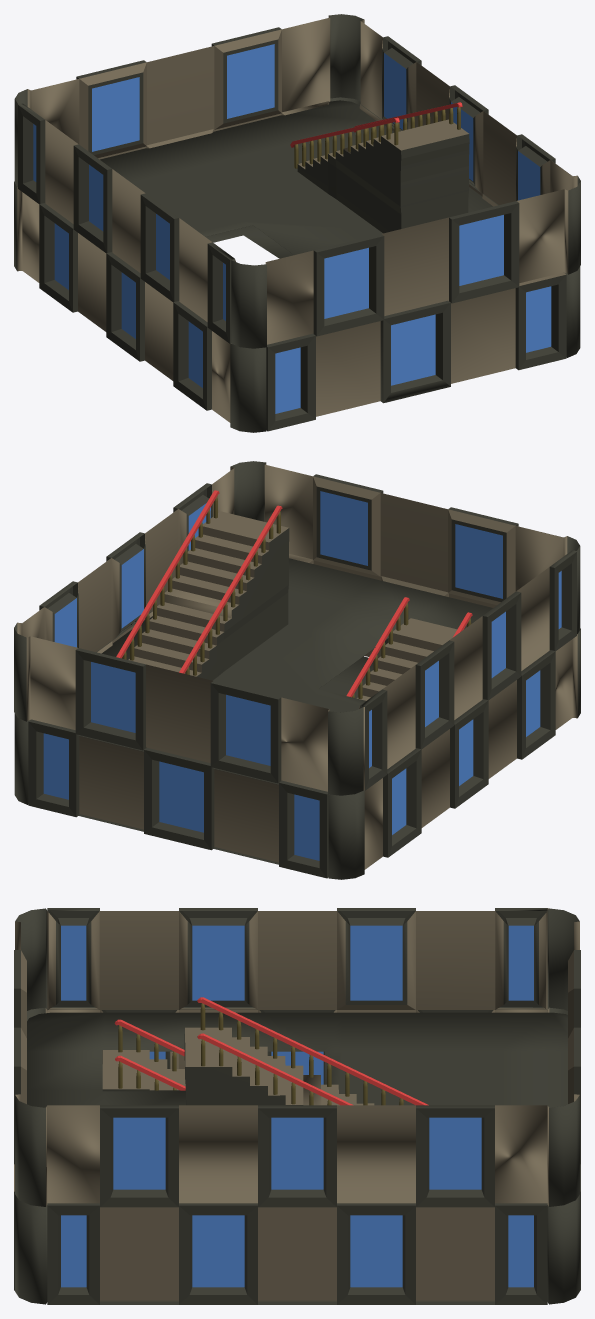
Rendered from Hotel Interior 5.fbx.
3 views of the same model, one above another, from view 1: azimuth 30°, elevation 25°; view 2: azimuth 150°, elevation 25°; view 3: azimuth 270°, elevation 25° (orthographic). The views are drawn at different scales.
Visible parts, largest first — view 1: hotel basado.015; view 2: hotel basado.015; view 3: hotel basado.015.
Part boxes in pixels (bbox=[...]): hotel basado.015: bbox=[14, 14, 580, 432]; hotel basado.015: bbox=[14, 461, 580, 879]; hotel basado.015: bbox=[14, 908, 580, 1304].
Bounding box in the file's own units: 1864 × 1136 × 2225.
